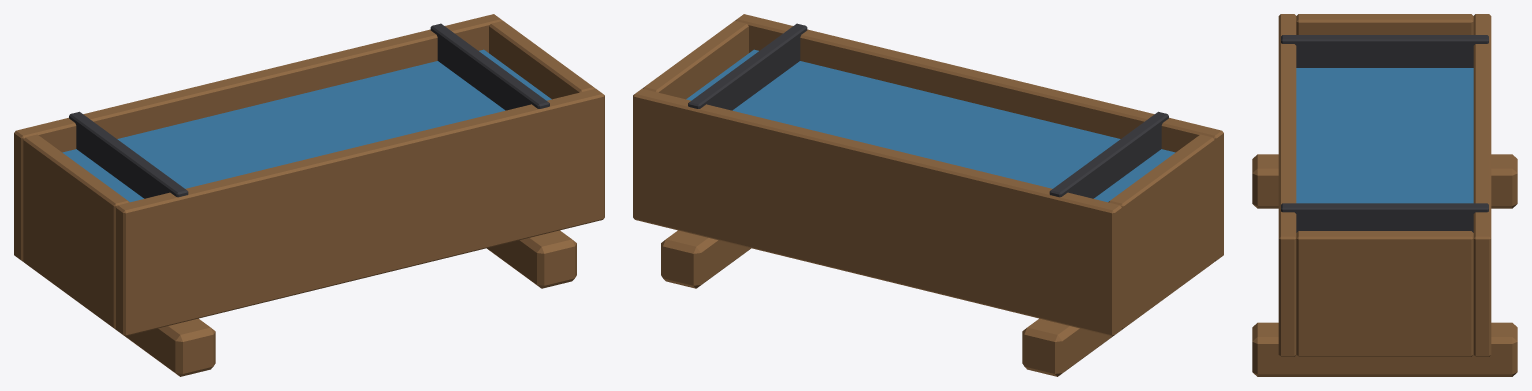
File: Prop_Lab_HornbackTrough_Wood.glb
3 views of the same model, side by side, from view 1: azimuth 30°, elevation 25°; view 2: azimuth 150°, elevation 25°; view 3: azimuth 270°, elevation 25° (orthographic). The views are drawn at different scales.
Parts seen in each view (by area): view 1: Prop_Lab_HornbackTrough_Wood, Prop_Lab_HornbackTrough_Wood_Water; view 2: Prop_Lab_HornbackTrough_Wood, Prop_Lab_HornbackTrough_Wood_Water; view 3: Prop_Lab_HornbackTrough_Wood, Prop_Lab_HornbackTrough_Wood_Water.
Part boxes in pixels (x1,y1,x2,y2): Prop_Lab_HornbackTrough_Wood: (14, 14, 604, 376); Prop_Lab_HornbackTrough_Wood_Water: (62, 49, 551, 202); Prop_Lab_HornbackTrough_Wood: (633, 14, 1223, 376); Prop_Lab_HornbackTrough_Wood_Water: (686, 49, 1175, 202); Prop_Lab_HornbackTrough_Wood: (1252, 14, 1517, 376); Prop_Lab_HornbackTrough_Wood_Water: (1296, 68, 1473, 203).
Size of what is drawn, in the model's own units: 1.2 by 0.41 by 0.6.
